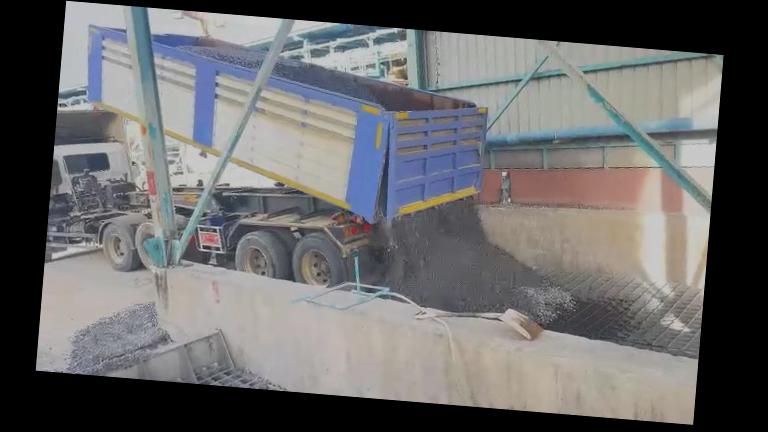gravel: (386, 200, 573, 324), (63, 304, 171, 375), (272, 58, 383, 105), (177, 45, 264, 70)
